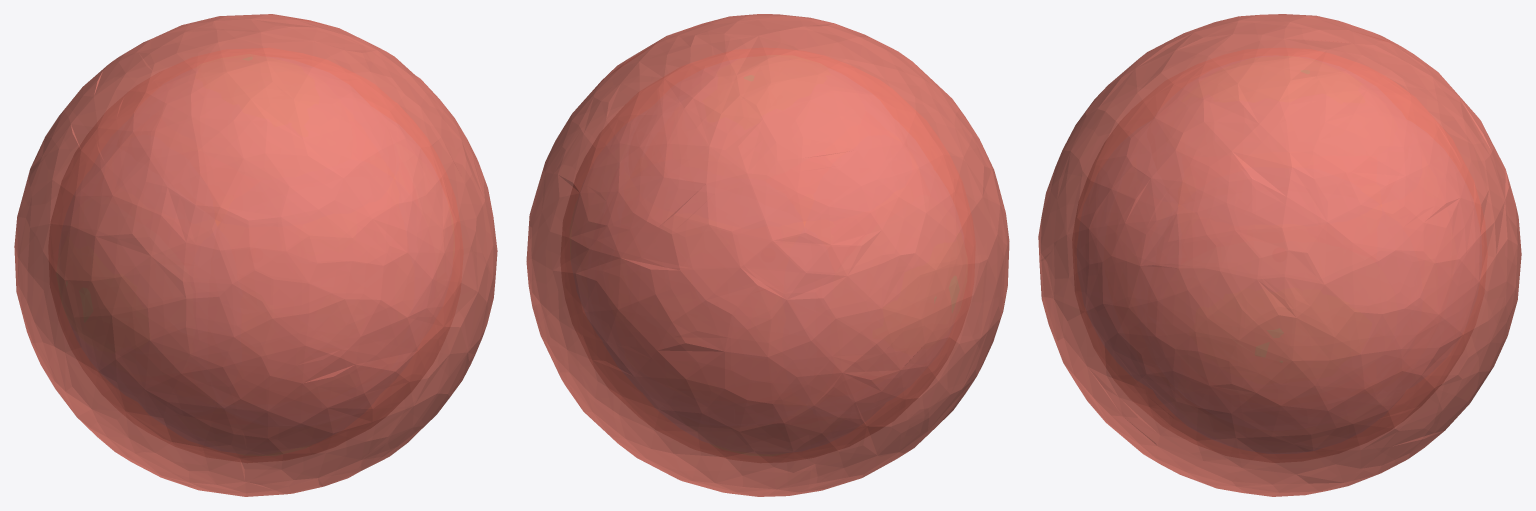
Rendered from orbital.glb.
The picture shows the model from 3 angles, left to right: view 1: azimuth 30°, elevation 25°; view 2: azimuth 150°, elevation 25°; view 3: azimuth 270°, elevation 25°; orthographic projection.
Parts seen in each view (by area): view 1: Lr_n7_s_ml0_node, Lr_n6_s_ml0_node; view 2: Lr_n7_s_ml0_node, Lr_n6_s_ml0_node; view 3: Lr_n7_s_ml0_node, Lr_n6_s_ml0_node.
Part boxes in pixels (box(x1,y1,x2,y2)): Lr_n7_s_ml0_node: box(14, 14, 497, 496); Lr_n6_s_ml0_node: box(48, 48, 463, 462); Lr_n7_s_ml0_node: box(526, 14, 1009, 496); Lr_n6_s_ml0_node: box(560, 48, 975, 462); Lr_n7_s_ml0_node: box(1038, 14, 1521, 496); Lr_n6_s_ml0_node: box(1072, 48, 1487, 462).
Size of the model in its own units: 3.55 by 3.56 by 3.55.
